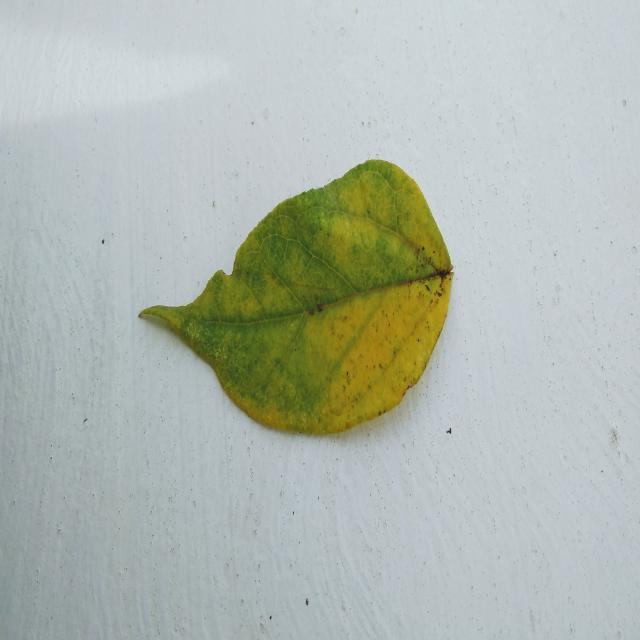leaf: (137, 157, 454, 436)
